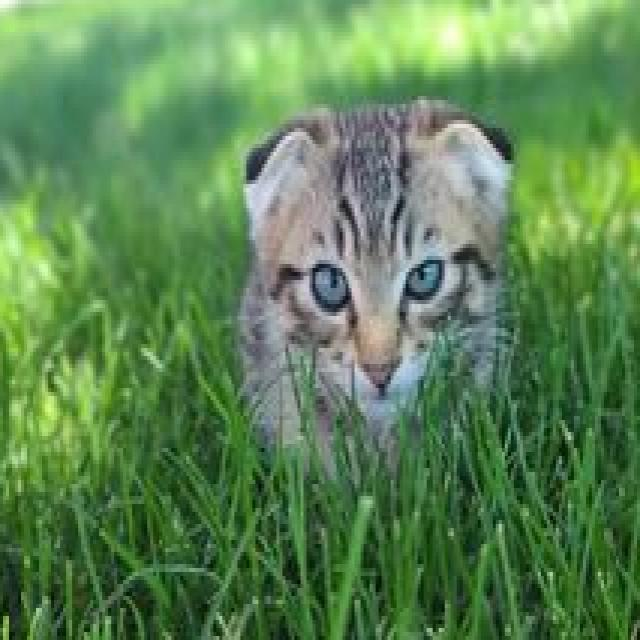Scottish Fold: (234, 92, 521, 498)
